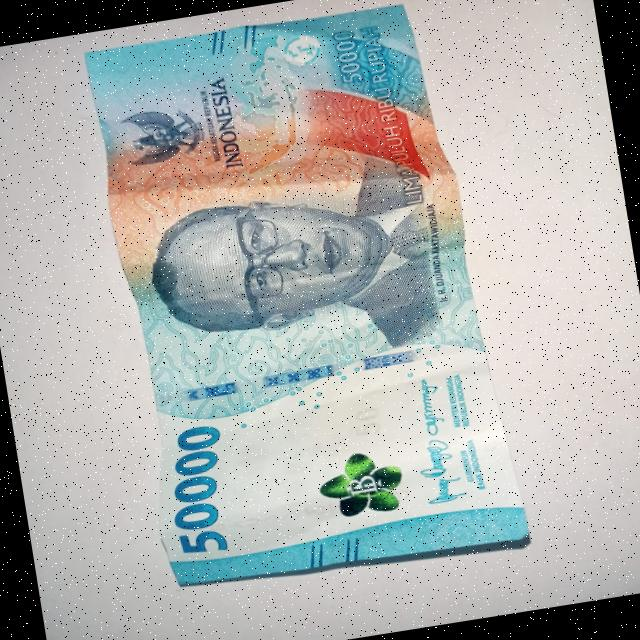50K: (69, 0, 554, 615)
